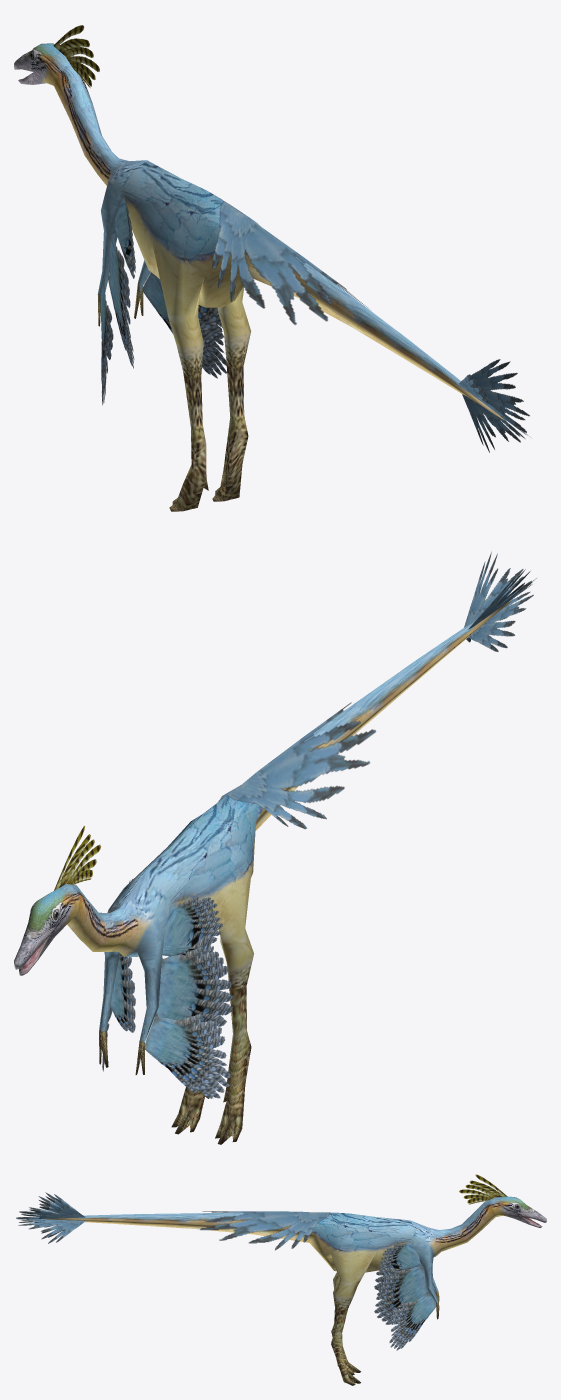
The model's file is dinosaur_hunting_compsognathus.glb.
3 views of the same model, one above another, from view 1: azimuth 30°, elevation 25°; view 2: azimuth 150°, elevation 25°; view 3: azimuth 270°, elevation 25° (orthographic). The views are drawn at different scales.
Visible parts, largest first — view 1: Compy; view 2: Compy; view 3: Compy.
Part boxes in pixels (x1,y1,x2,y2): Compy: [14, 25, 529, 511]; Compy: [14, 552, 536, 1144]; Compy: [16, 1174, 546, 1385].
Size of the model in its own units: 0.1082 by 0.3057 by 0.72.
2 materials, 2 textured.
